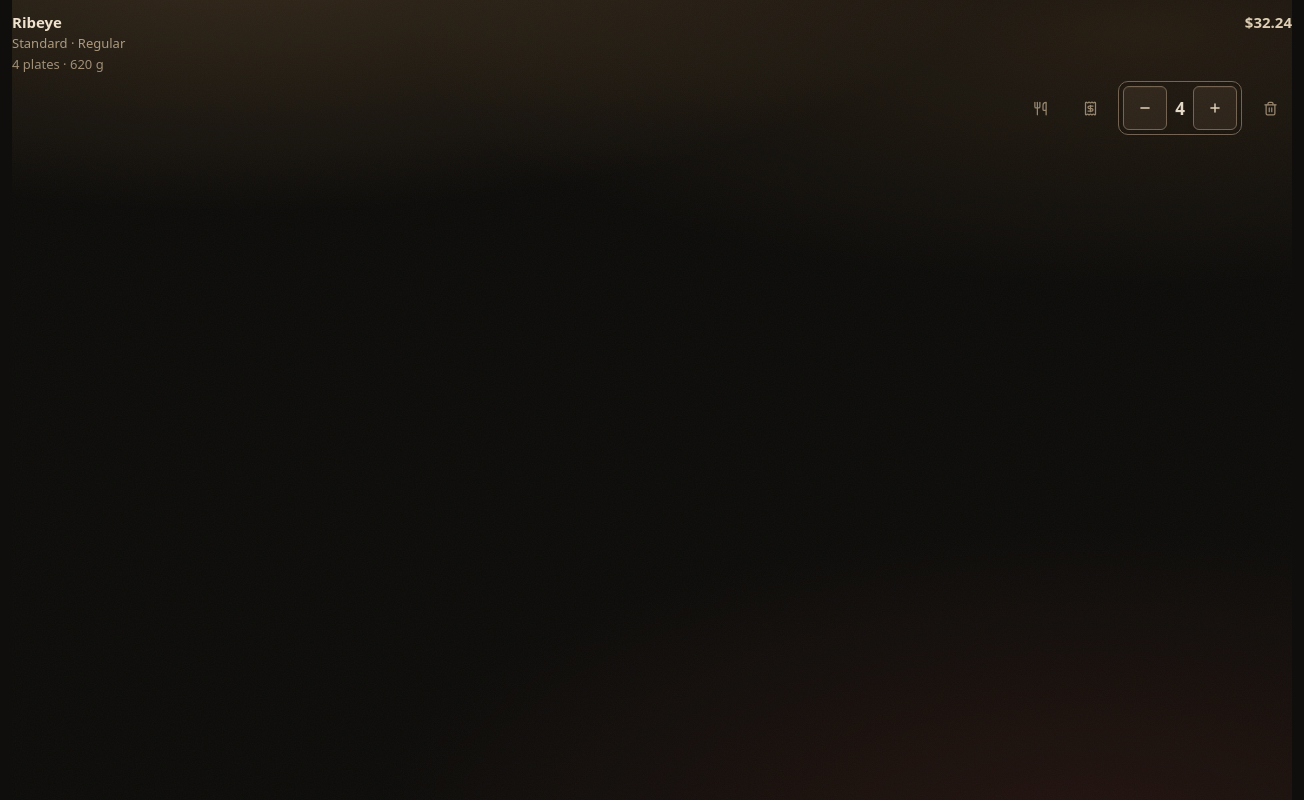
Test case: The tab, when the plate went clean › offers the control behind a deliberate action
Click the button named "Record how much of Ribeye, Standard, Regular was eaten". click: coordinates (1040, 108)
box: [1018, 86, 1062, 130]
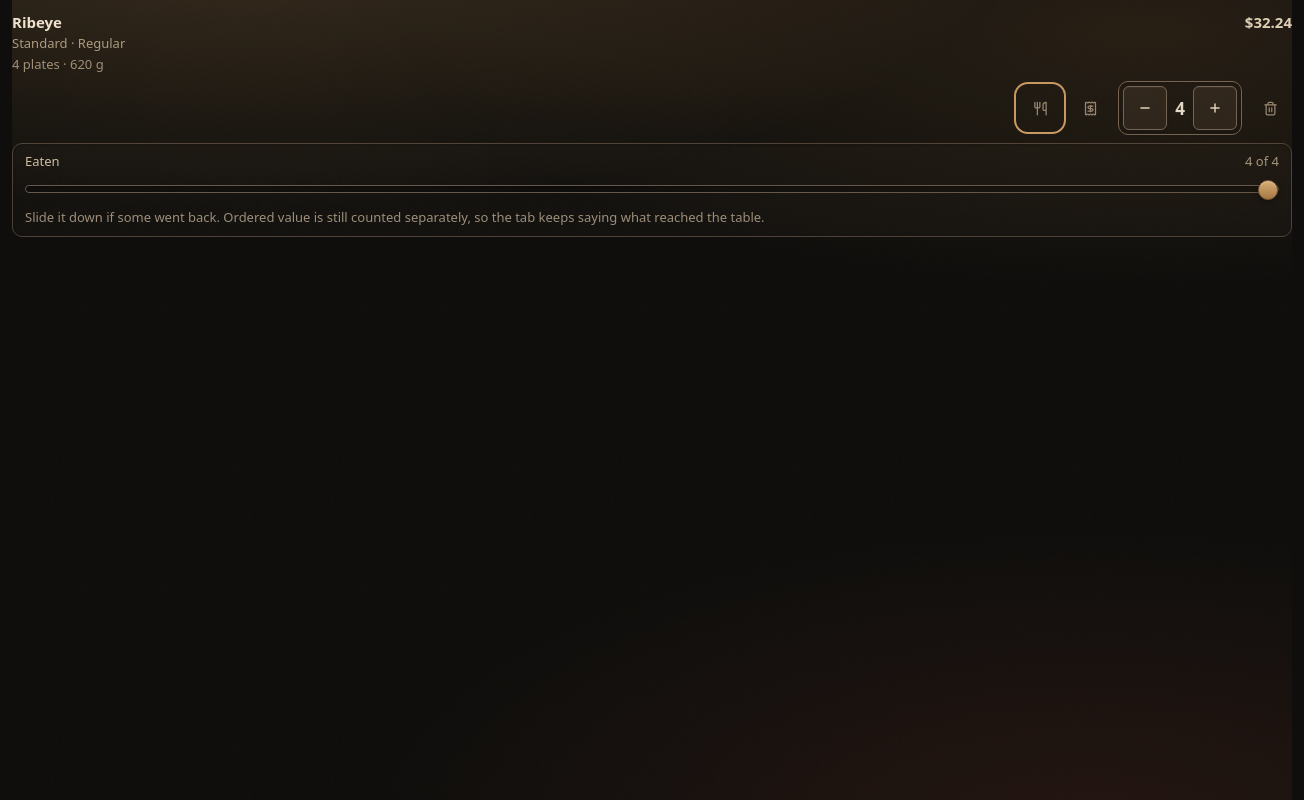
Expected: the slider named "Plates of Ribeye, Standard, Regular eaten" holds "4", [25, 177, 1279, 201]
